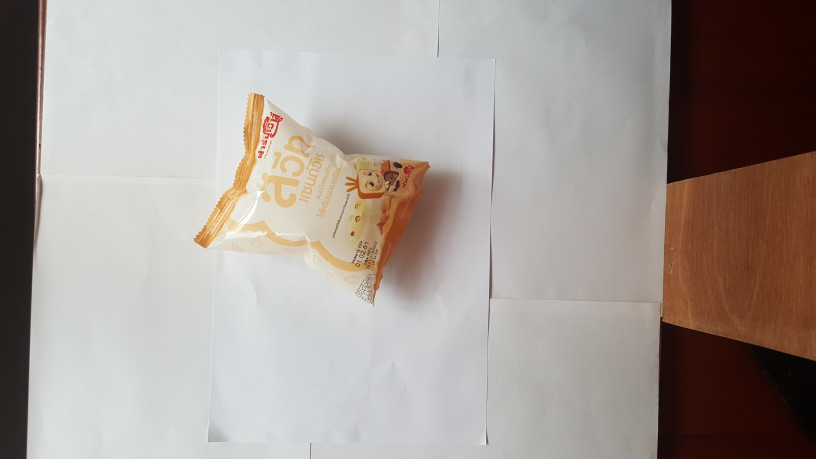farmhouse-sweetsandwich-almond: (191, 91, 431, 307)
